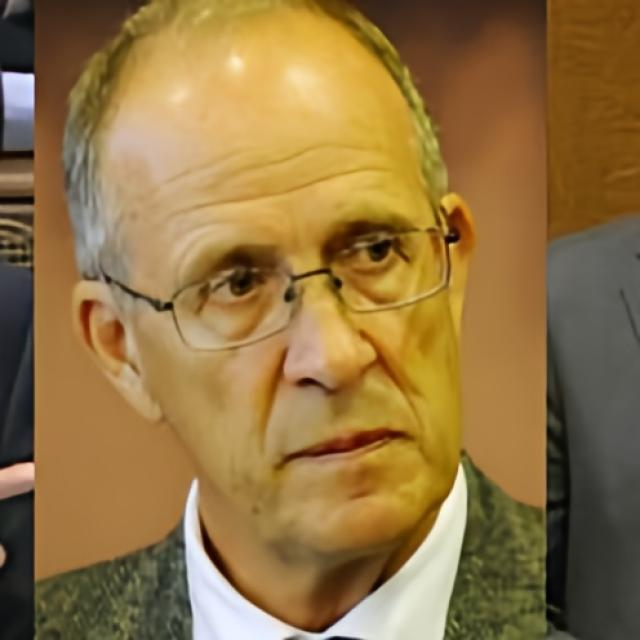sad: (98, 2, 467, 560)
